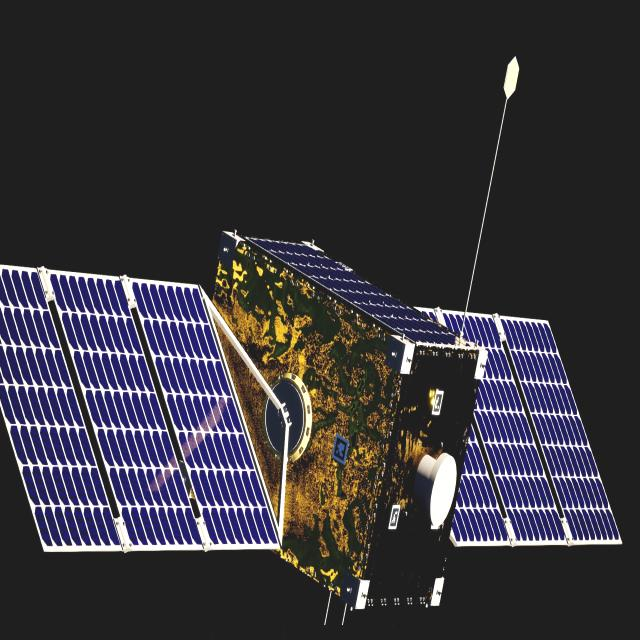satellite: (0, 231, 621, 620)
